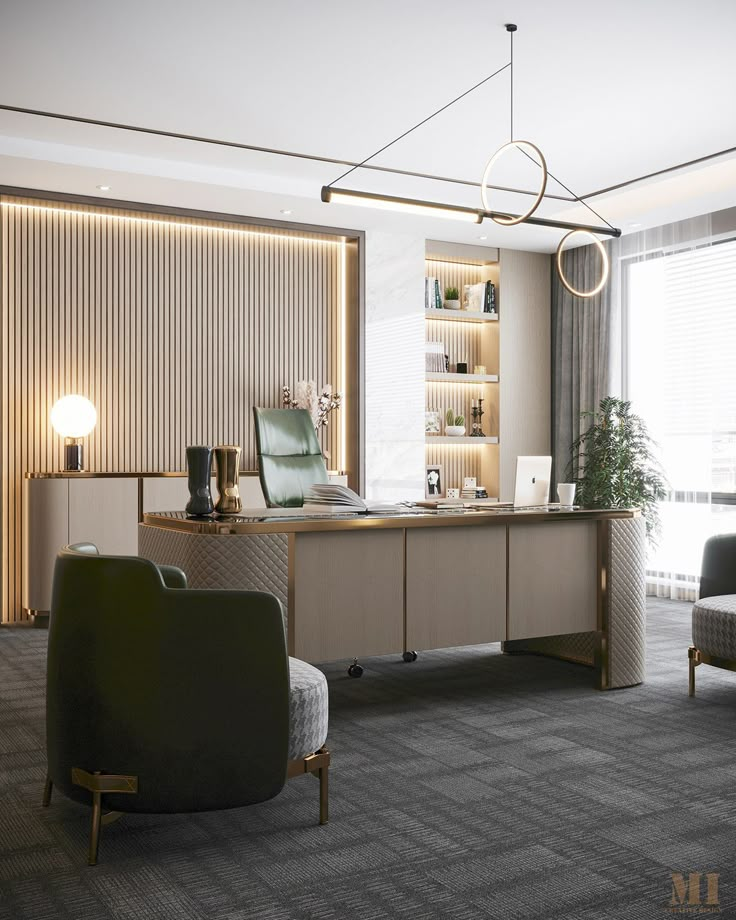not a gesture sign: (404, 663, 725, 911), (84, 569, 330, 857)
